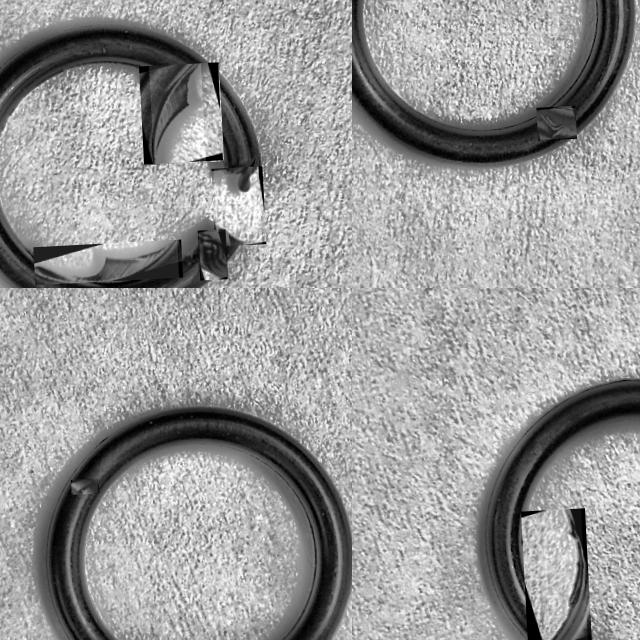切割缺陷: (199, 233, 227, 277), (537, 110, 576, 139), (72, 479, 97, 495)
挤压缺陷: (217, 166, 257, 245)
裂纹: (34, 240, 177, 283), (153, 63, 201, 164), (551, 509, 583, 640)
